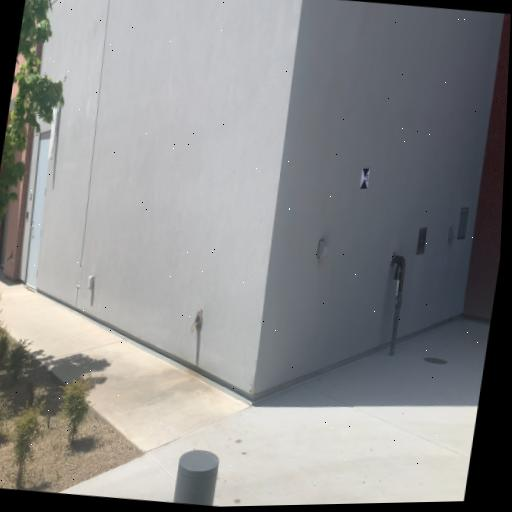target5: (359, 167, 371, 190)
